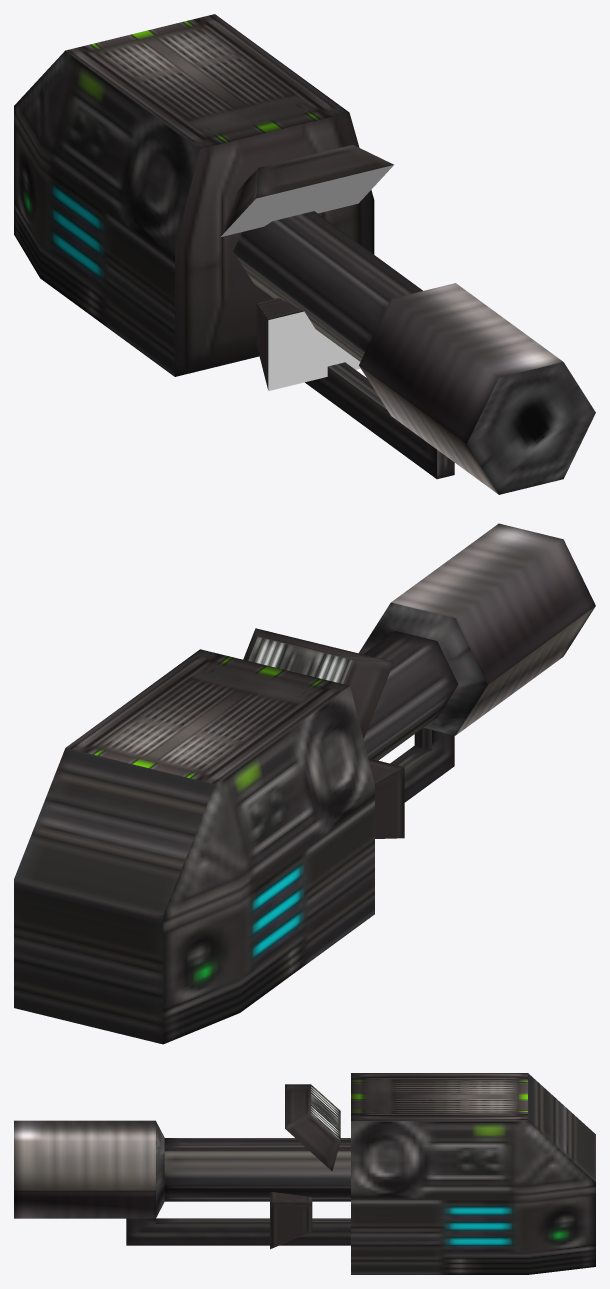
File: wep01.obj
3 renders of one model, top to bottom at view 1: azimuth 30°, elevation 25°; view 2: azimuth 150°, elevation 25°; view 3: azimuth 270°, elevation 25°, orthographic. The views are drawn at different scales.
Parts seen in each view (by area): view 1: frm-wepbas1, frm-wepbar1, frm-wepbas2, frm-wepbas3, frm-bwepbar; view 2: frm-wepbas1, frm-wepbar1, frm-wepbas2, frm-bwepbar, frm-wepbas3; view 3: frm-wepbas1, frm-wepbar1, frm-bwepbar, frm-wepbas2, frm-wepbas3.
Part boxes in pixels (x1,y1,x2,y2): frm-wepbas1: [14, 14, 374, 376]; frm-wepbar1: [233, 211, 595, 494]; frm-wepbas2: [220, 144, 393, 237]; frm-wepbas3: [256, 298, 360, 390]; frm-bwepbar: [305, 362, 454, 479]; frm-wepbas1: [14, 649, 374, 1044]; frm-wepbar1: [359, 523, 595, 760]; frm-wepbas2: [243, 628, 393, 738]; frm-bwepbar: [390, 728, 454, 802]; frm-wepbas3: [368, 758, 404, 838]; frm-wepbas1: [351, 1073, 595, 1274]; frm-wepbar1: [14, 1120, 350, 1218]; frm-bwepbar: [126, 1218, 350, 1245]; frm-wepbas2: [285, 1084, 340, 1171]; frm-wepbas3: [270, 1191, 312, 1249].
Bounding box in the file's own units: 0.2111 × 0.2246 × 0.8115.
